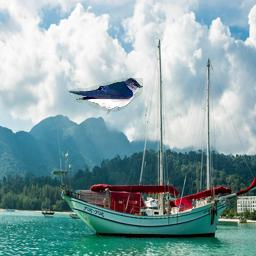Swallow: (68, 78, 143, 115)
